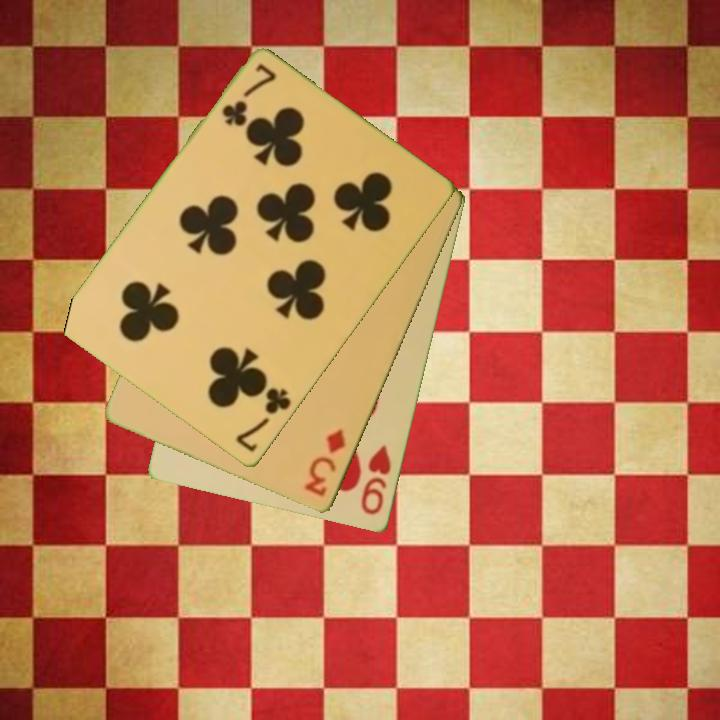3d: (301, 425, 349, 501)
7c: (232, 384, 295, 456), (218, 60, 280, 131)
9h: (357, 441, 394, 519)
